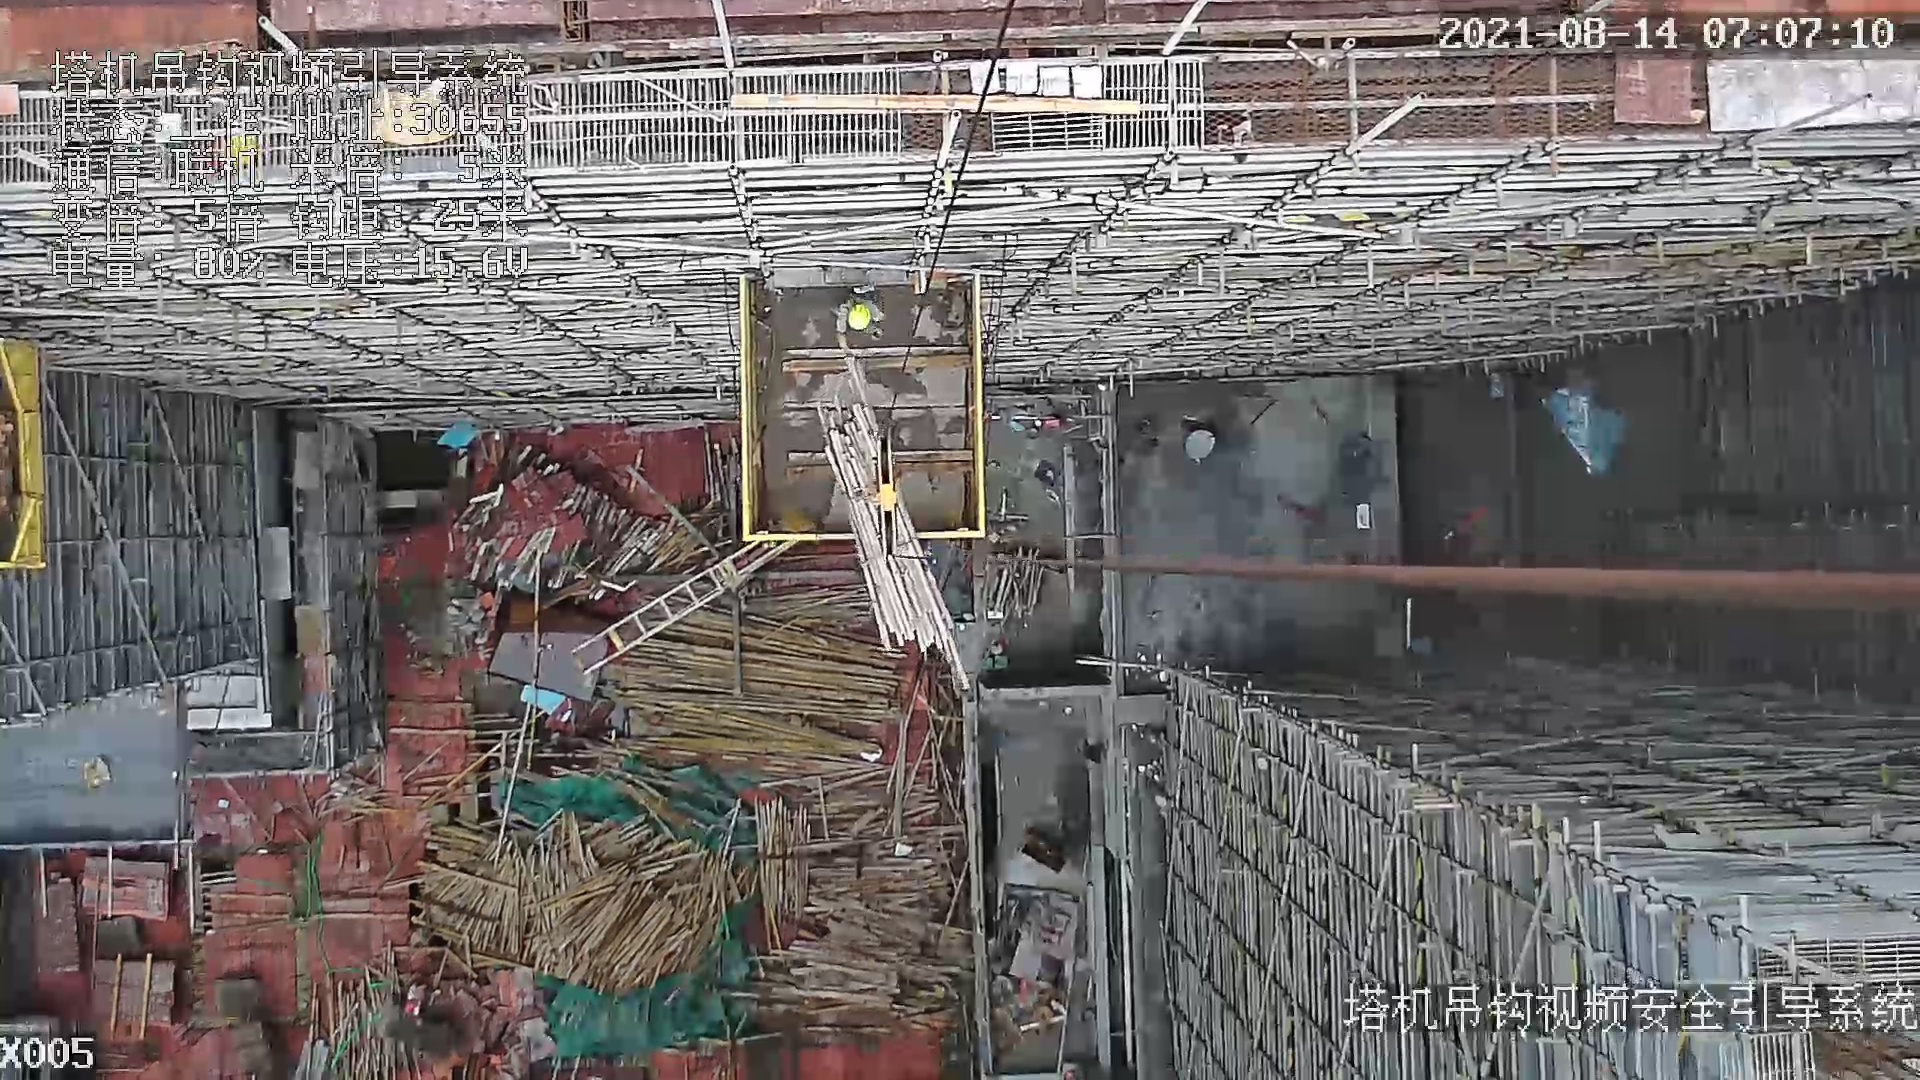helmet: (847, 303, 872, 329)
hook: (868, 427, 903, 563)
person: (836, 297, 886, 342)
